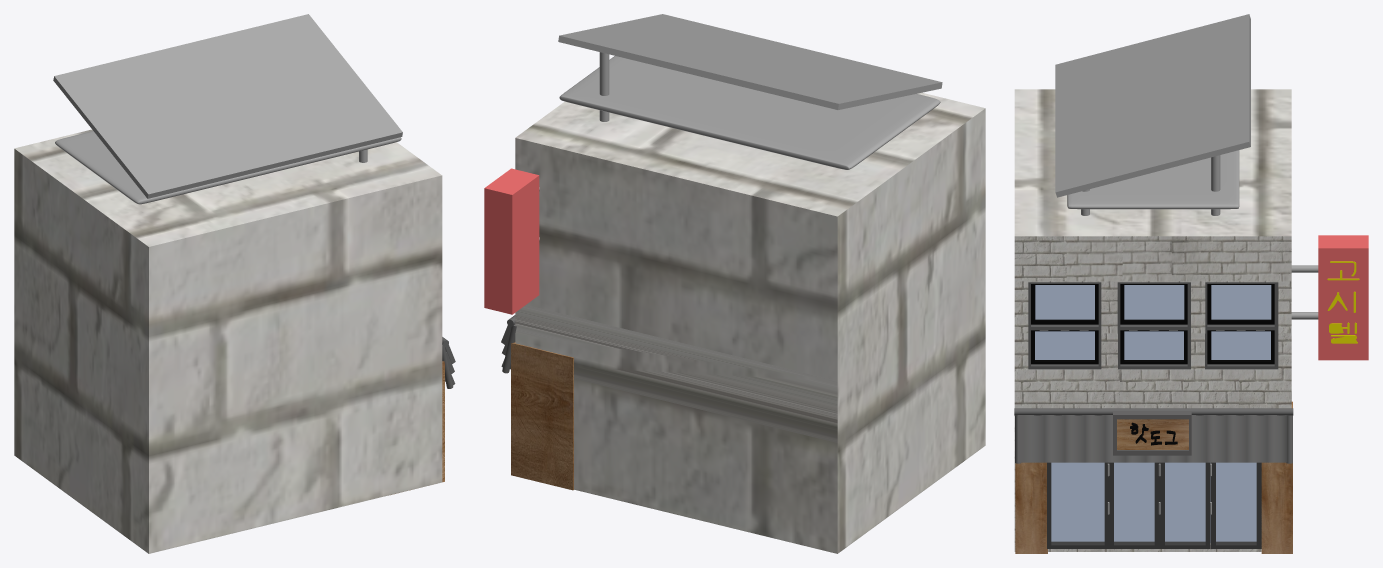
File: 핫도그 건물.fbx
The picture shows the model from 3 angles, left to right: view 1: azimuth 30°, elevation 25°; view 2: azimuth 150°, elevation 25°; view 3: azimuth 270°, elevation 25°; orthographic projection. The views are drawn at different scales.
Parts seen in each view (by area): view 1: polySurface6, pCube10, pCube11; view 2: polySurface6, pCube11, pCube10, pCube5, pCube27; view 3: polySurface6, pCube10, pCube8, pCube16 (×3), pCube22 (×3), pCube11, pCube27, pCube2, pCube9, pCube4, pCube5, pCube6 (+10 smaller).
Boxes of the visible parts, x1,y1,x2,y2 form: polySurface6: [14, 129, 442, 553]; pCube10: [53, 14, 402, 198]; pCube11: [55, 131, 401, 204]; polySurface6: [515, 92, 985, 553]; pCube11: [559, 56, 940, 169]; pCube10: [558, 14, 942, 109]; pCube5: [511, 342, 573, 490]; pCube27: [484, 168, 539, 314]; polySurface6: [1014, 89, 1291, 551]; pCube10: [1055, 14, 1250, 197]; pCube8: [1051, 462, 1256, 542]; pCube16 (×3): [1031, 284, 1274, 324]; pCube22 (×3): [1031, 330, 1274, 364]; pCube11: [1067, 150, 1239, 209]; pCube27: [1318, 235, 1368, 360]; pCube2: [1017, 415, 1287, 440]; pCube9: [1113, 411, 1191, 455]; pCube4: [1017, 450, 1287, 462]; pCube5: [1261, 401, 1292, 553]; pCube6: [1015, 462, 1047, 553].
Bounding box in the file's own units: 12.44 × 14.58 × 11.68.
Materials: 12 (2 with a texture image).
